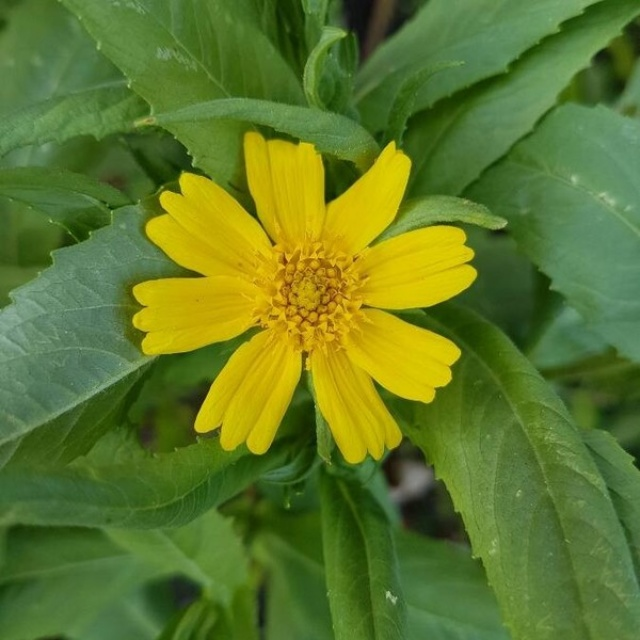obstacle: (79, 16, 587, 585)
